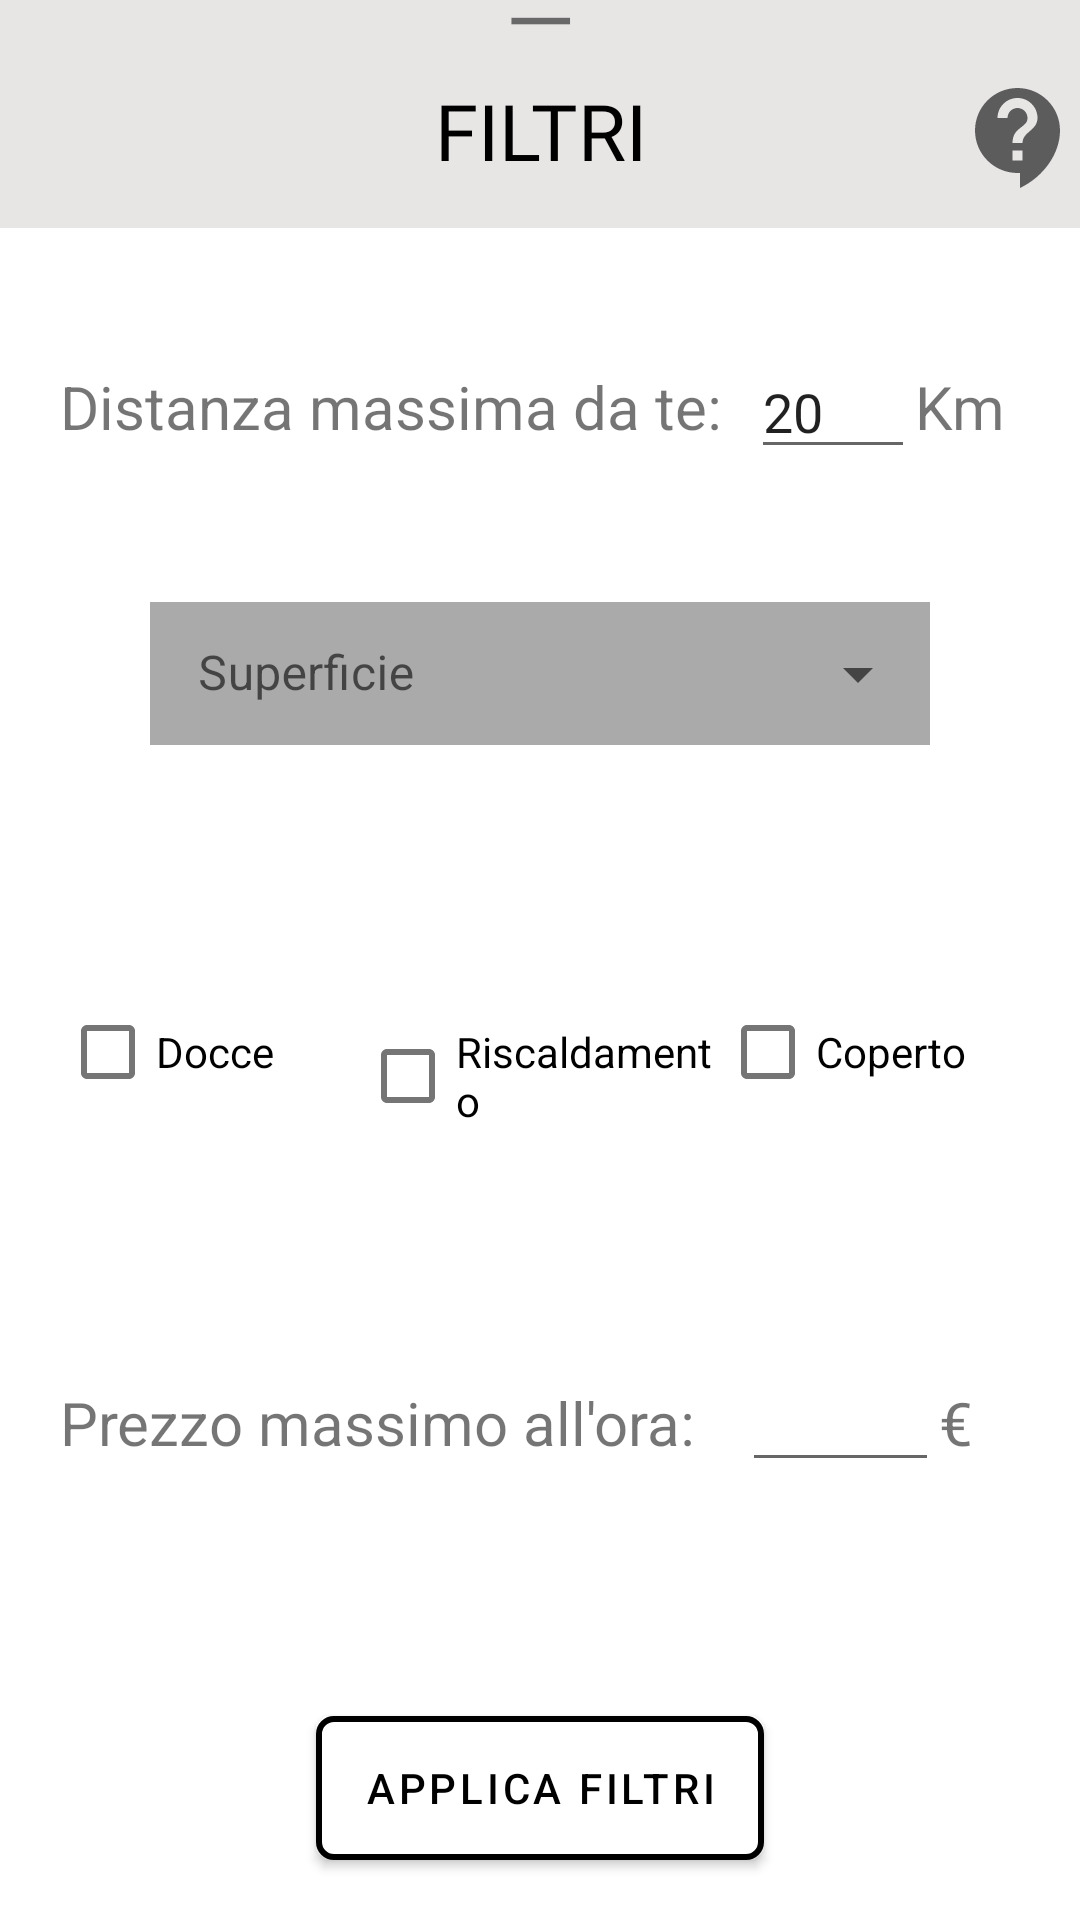

Named icons in this screenshot (1080 × 1920) and their centers, point (x, y):
info: point (1017, 138)
